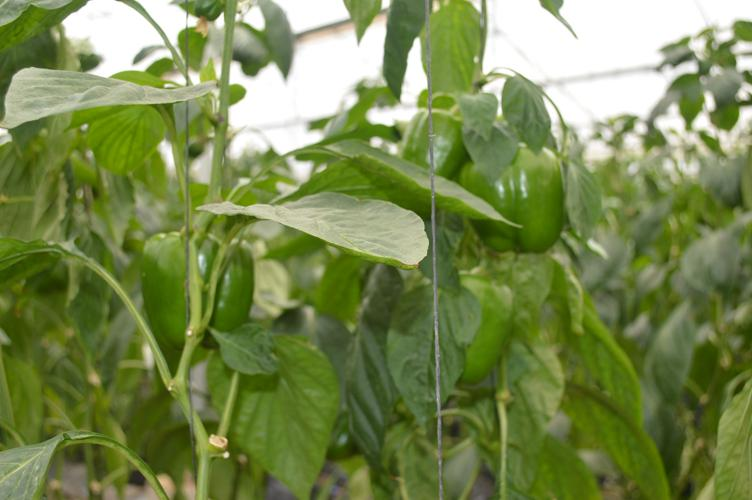BellPepper: (133, 224, 264, 355), (455, 148, 573, 248), (437, 262, 514, 397), (400, 94, 468, 192)
